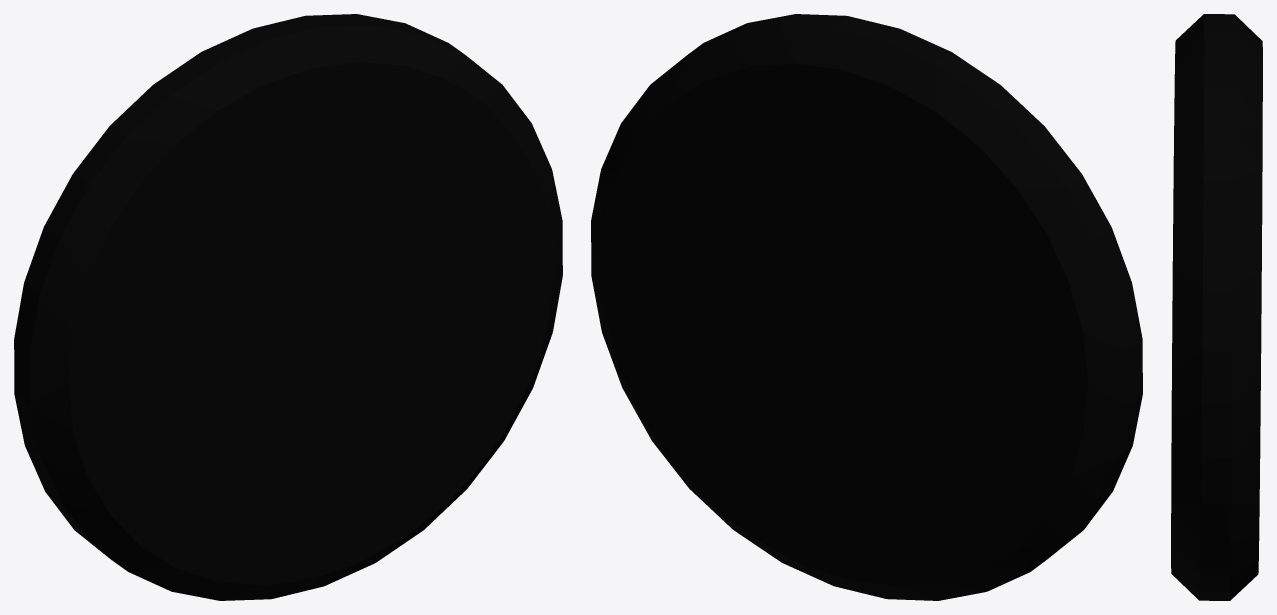
3 renders of one model, left to right at view 1: azimuth 30°, elevation 25°; view 2: azimuth 150°, elevation 25°; view 3: azimuth 270°, elevation 25°, orthographic. The views are drawn at different scales.
Visible parts, largest first — view 1: Цилиндр; view 2: Цилиндр; view 3: Цилиндр.
Part boxes in pixels (<box>): Цилиндр: <box>14,14,562,600</box>; Цилиндр: <box>591,14,1142,600</box>; Цилиндр: <box>1171,14,1262,600</box>.
Bounding box in the file's own units: 2.97 × 2.97 × 0.4668.
1 material, 1 textured.
